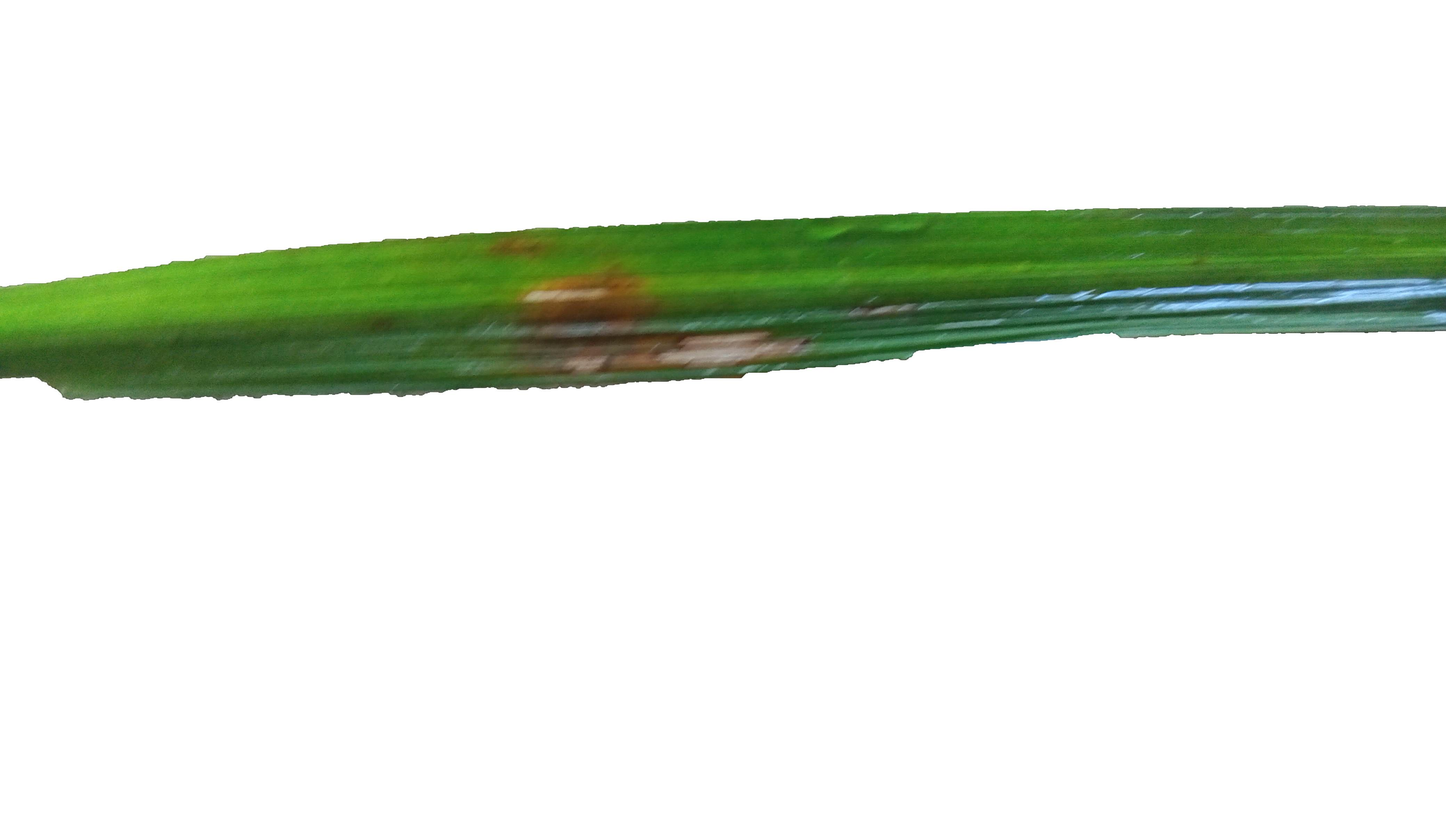Blight: (535, 259, 660, 373), (655, 306, 815, 379), (487, 221, 561, 274)
